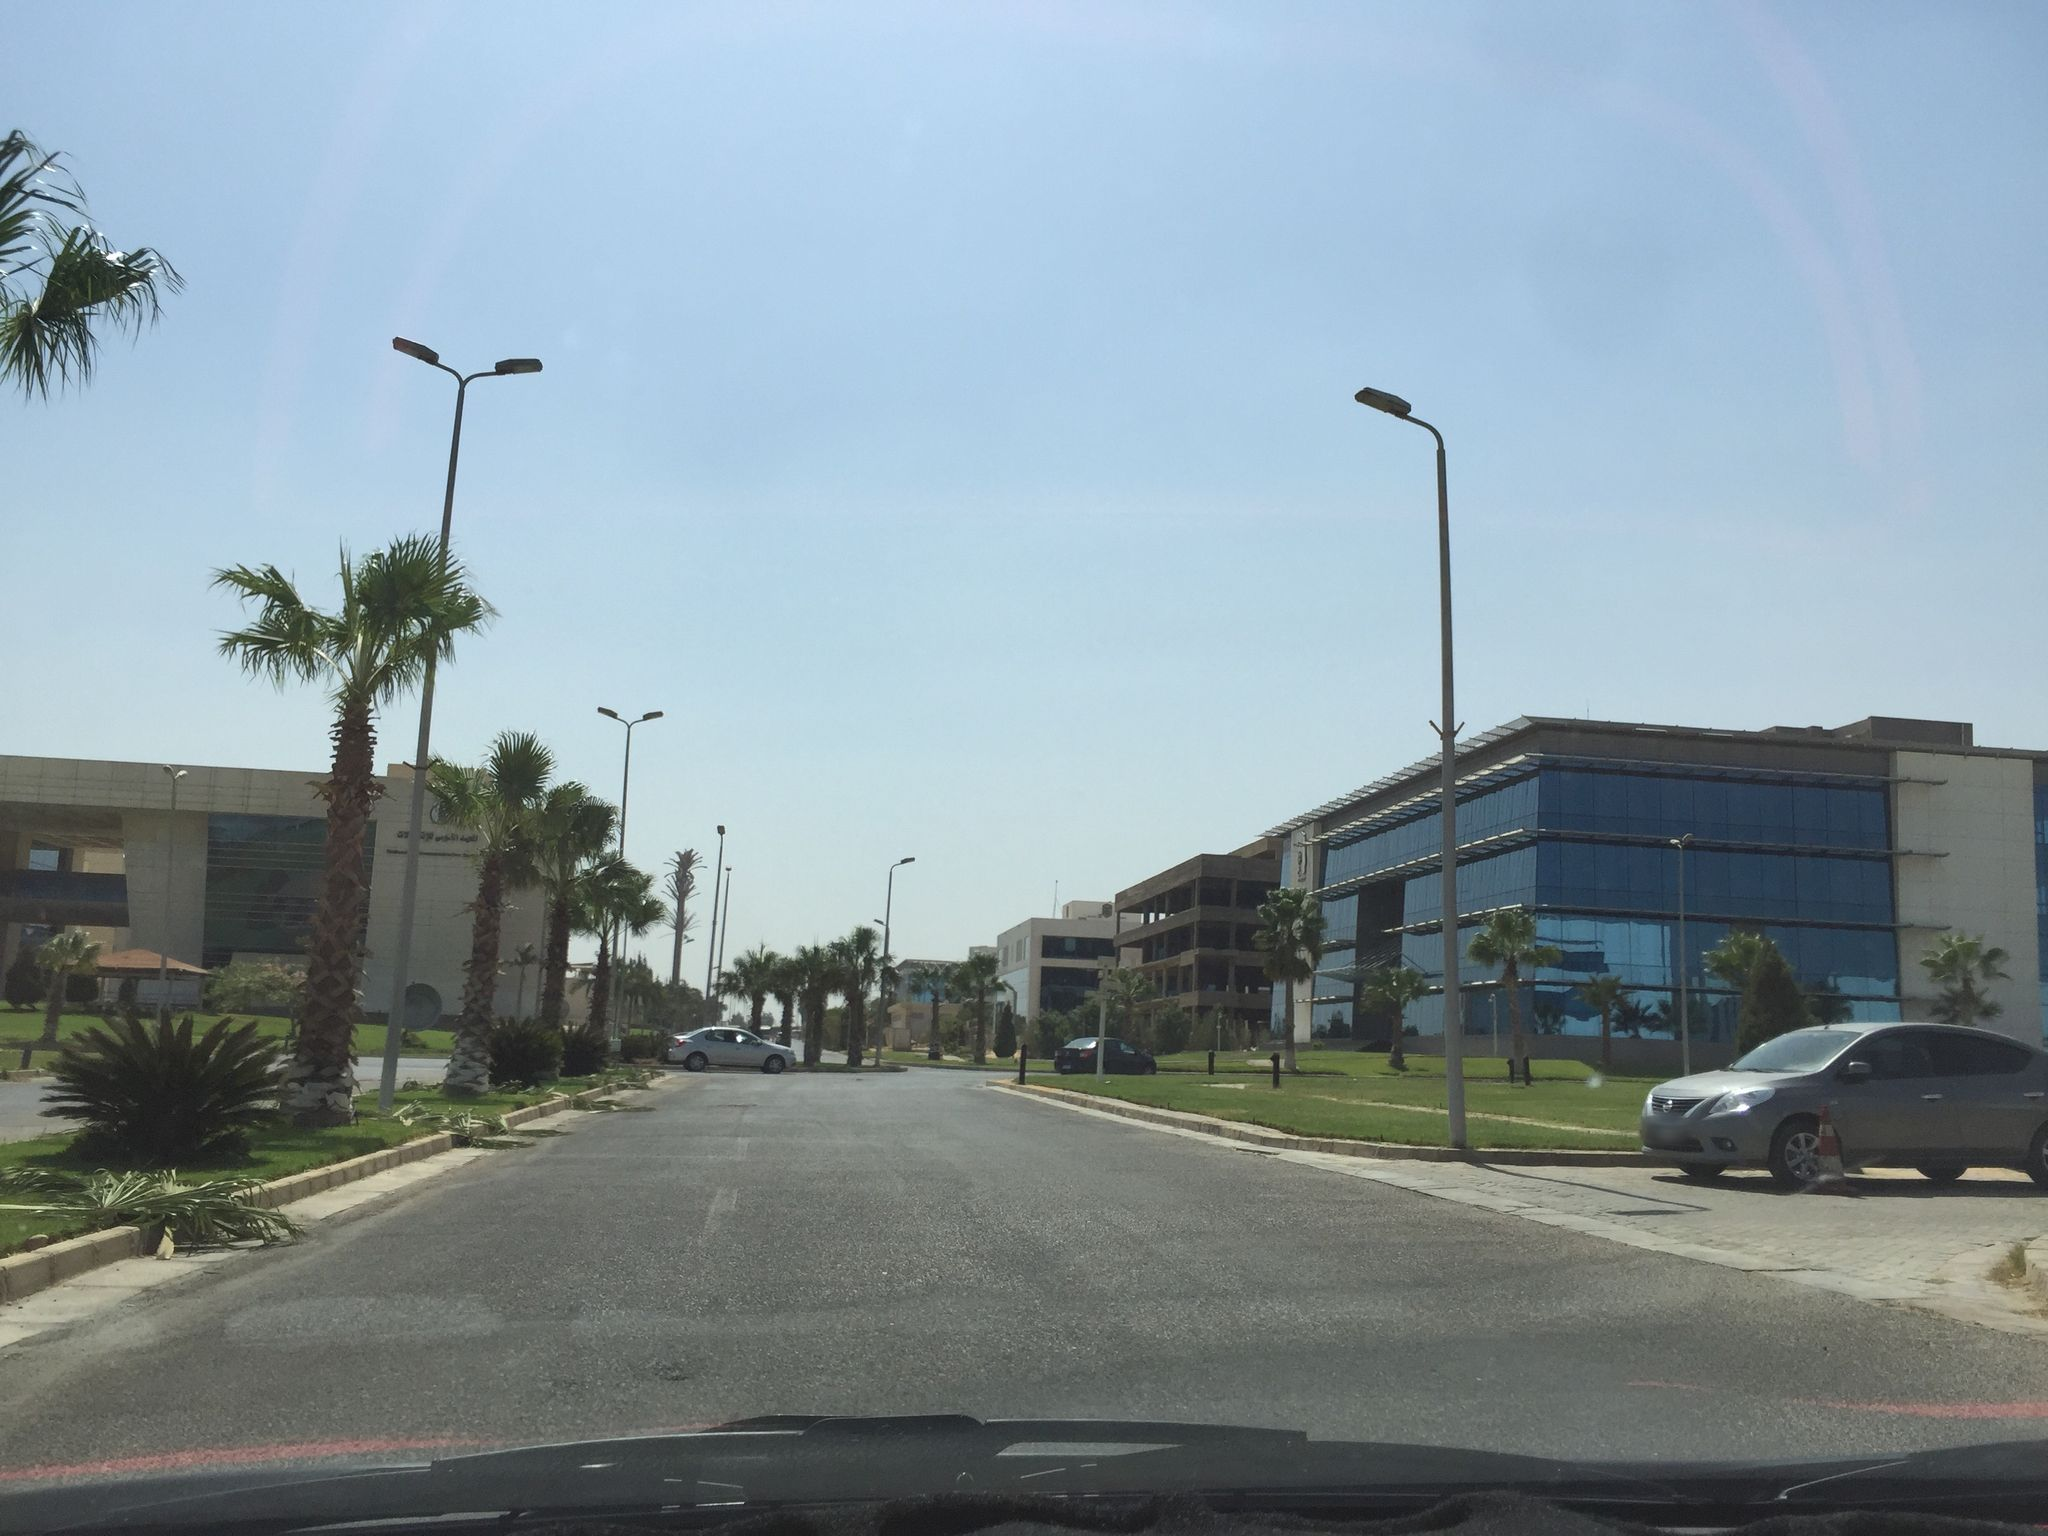car: (1637, 1020, 2048, 1186), (666, 1025, 797, 1073), (1051, 1036, 1156, 1075)
